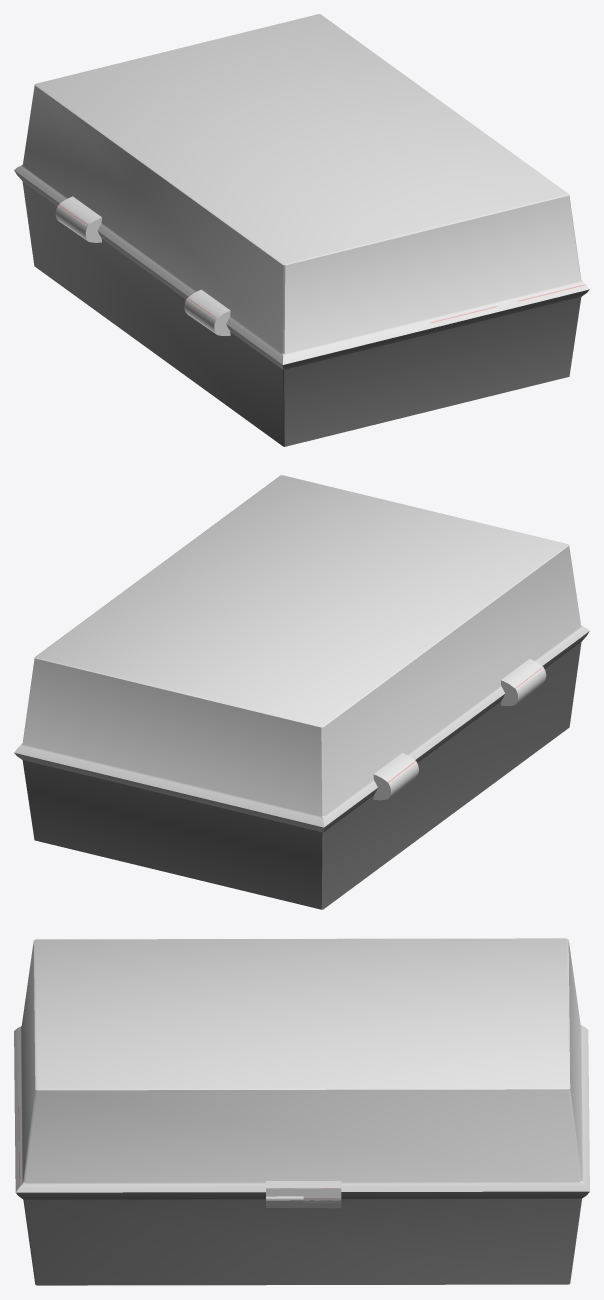
The picture shows the model from 3 angles, top to bottom: view 1: azimuth 30°, elevation 25°; view 2: azimuth 150°, elevation 25°; view 3: azimuth 270°, elevation 25°; orthographic projection. The views are drawn at different scales.
Parts seen in each view (by area): view 1: Test_Tube_Box; view 2: Test_Tube_Box; view 3: Test_Tube_Box.
Boxes of the visible parts, box(x1,y1,x2,y2) form: Test_Tube_Box: box(14, 14, 589, 446); Test_Tube_Box: box(14, 475, 589, 909); Test_Tube_Box: box(14, 938, 589, 1285).
Bounding box in the file's own units: 0.4386 × 0.2278 × 0.6047.
